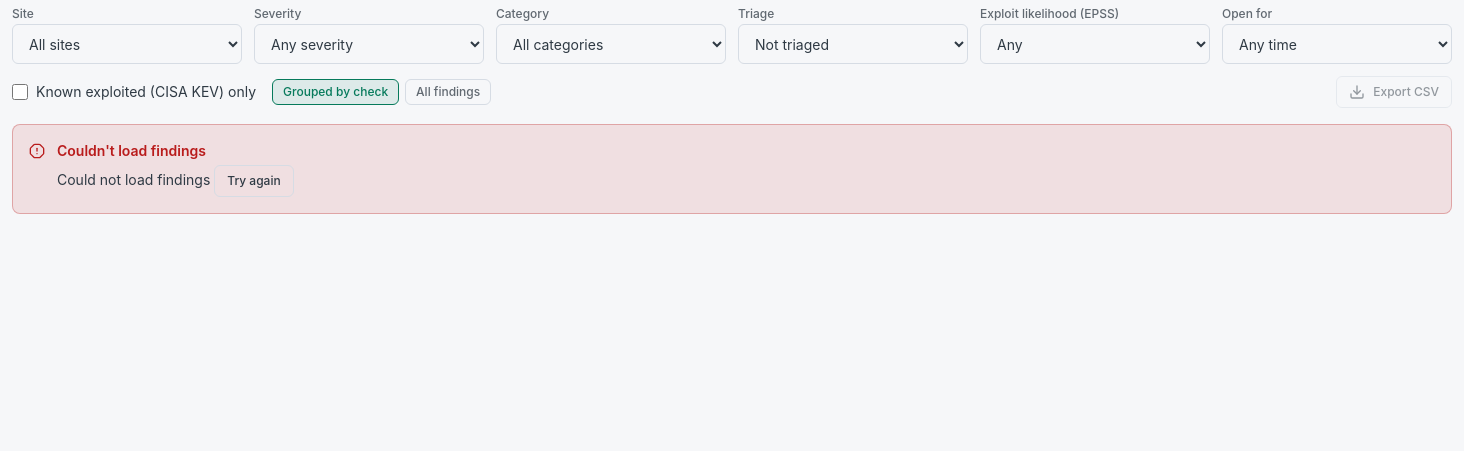
Scenario: FindingsExplorer › shows an error with a retry
This screenshot has width=1464, height=451.
Expected: the message shows "Could not load findings", [57, 171, 210, 188]
Click the button "Try again". click: point(254, 181)
box: [214, 165, 294, 197]
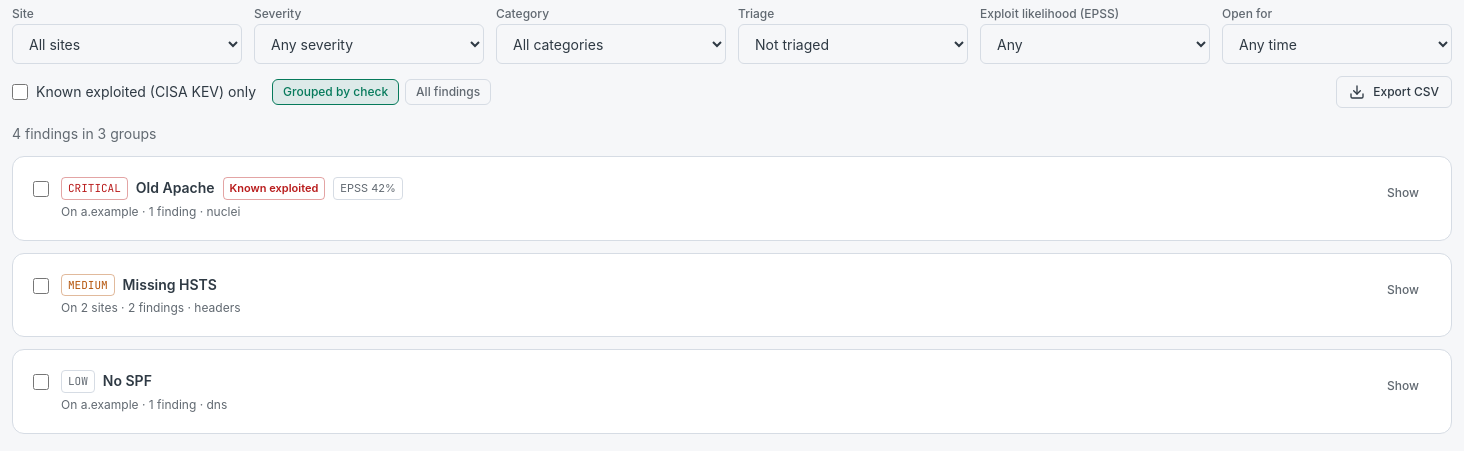
Now the heading "Missing HSTS" is shown, box [123, 275, 217, 295]
Now the message "Couldn't load findings Could not load findings Try again" is gone
